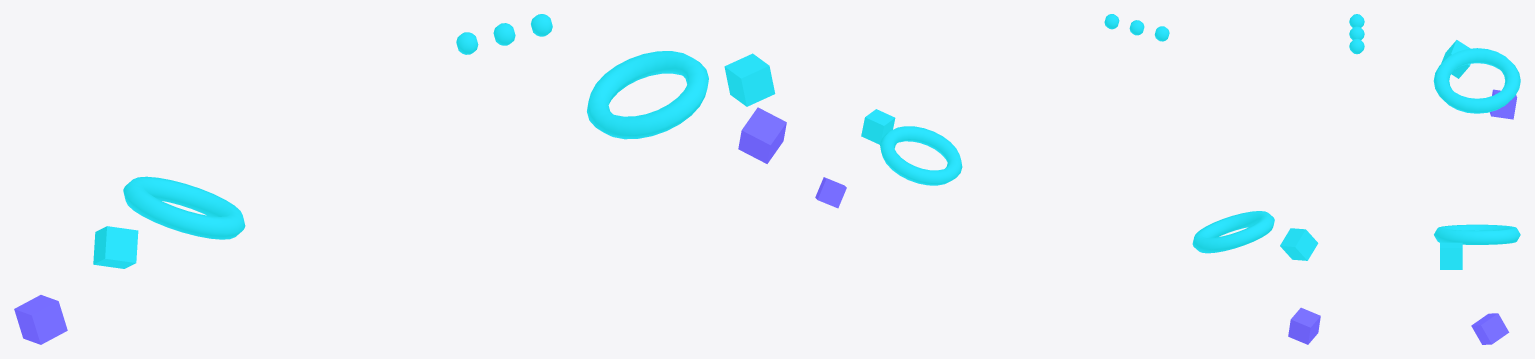
The model's file is avatar-aurora-kit-criador.glb.
3 renders of one model, left to right at view 1: azimuth 30°, elevation 25°; view 2: azimuth 150°, elevation 25°; view 3: azimuth 270°, elevation 25°, orthographic. The views are drawn at different scales.
Visible parts, largest first — view 1: kit_aurora_criador_cuffL, kit_aurora_criador_cuffR, kit_aurora_criador_protoCube0, kit_aurora_criador_protoCube3, kit_aurora_criador_protoCube1, kit_aurora_criador_protoCube2; view 2: kit_aurora_criador_cuffL, kit_aurora_criador_cuffR, kit_aurora_criador_protoCube2, kit_aurora_criador_protoCube3, kit_aurora_criador_protoCube0, kit_aurora_criador_protoCube1; view 3: kit_aurora_criador_cuffR, kit_aurora_criador_cuffL, kit_aurora_criador_protoCube1, kit_aurora_criador_protoCube0, kit_aurora_criador_protoCube3, kit_aurora_criador_protoCube2, kit_aurora_criador_pulse2, kit_aurora_criador_pulse1, kit_aurora_criador_pulse0.
Boxes of the visible parts, box(x1,y1,x2,y2) form: kit_aurora_criador_cuffL: box(587, 51, 708, 139); kit_aurora_criador_cuffR: box(123, 176, 245, 239); kit_aurora_criador_protoCube0: box(724, 53, 775, 106); kit_aurora_criador_protoCube3: box(14, 295, 67, 344); kit_aurora_criador_protoCube1: box(738, 107, 786, 163); kit_aurora_criador_protoCube2: box(93, 226, 138, 268); kit_aurora_criador_cuffL: box(880, 126, 962, 185); kit_aurora_criador_cuffR: box(1192, 211, 1274, 253); kit_aurora_criador_protoCube2: box(1280, 228, 1318, 260); kit_aurora_criador_protoCube3: box(1288, 307, 1320, 344); kit_aurora_criador_protoCube0: box(861, 109, 895, 144); kit_aurora_criador_protoCube1: box(815, 177, 846, 208); kit_aurora_criador_cuffR: box(1433, 48, 1520, 113); kit_aurora_criador_cuffL: box(1434, 224, 1520, 244); kit_aurora_criador_protoCube1: box(1471, 313, 1509, 344); kit_aurora_criador_protoCube0: box(1440, 242, 1462, 269); kit_aurora_criador_protoCube3: box(1490, 89, 1517, 119); kit_aurora_criador_protoCube2: box(1441, 40, 1470, 78); kit_aurora_criador_pulse2: box(1349, 38, 1364, 54); kit_aurora_criador_pulse1: box(1349, 26, 1364, 39); kit_aurora_criador_pulse0: box(1349, 14, 1364, 27).
Bounding box in the file's own units: 0.9086 × 0.3556 × 0.264.
